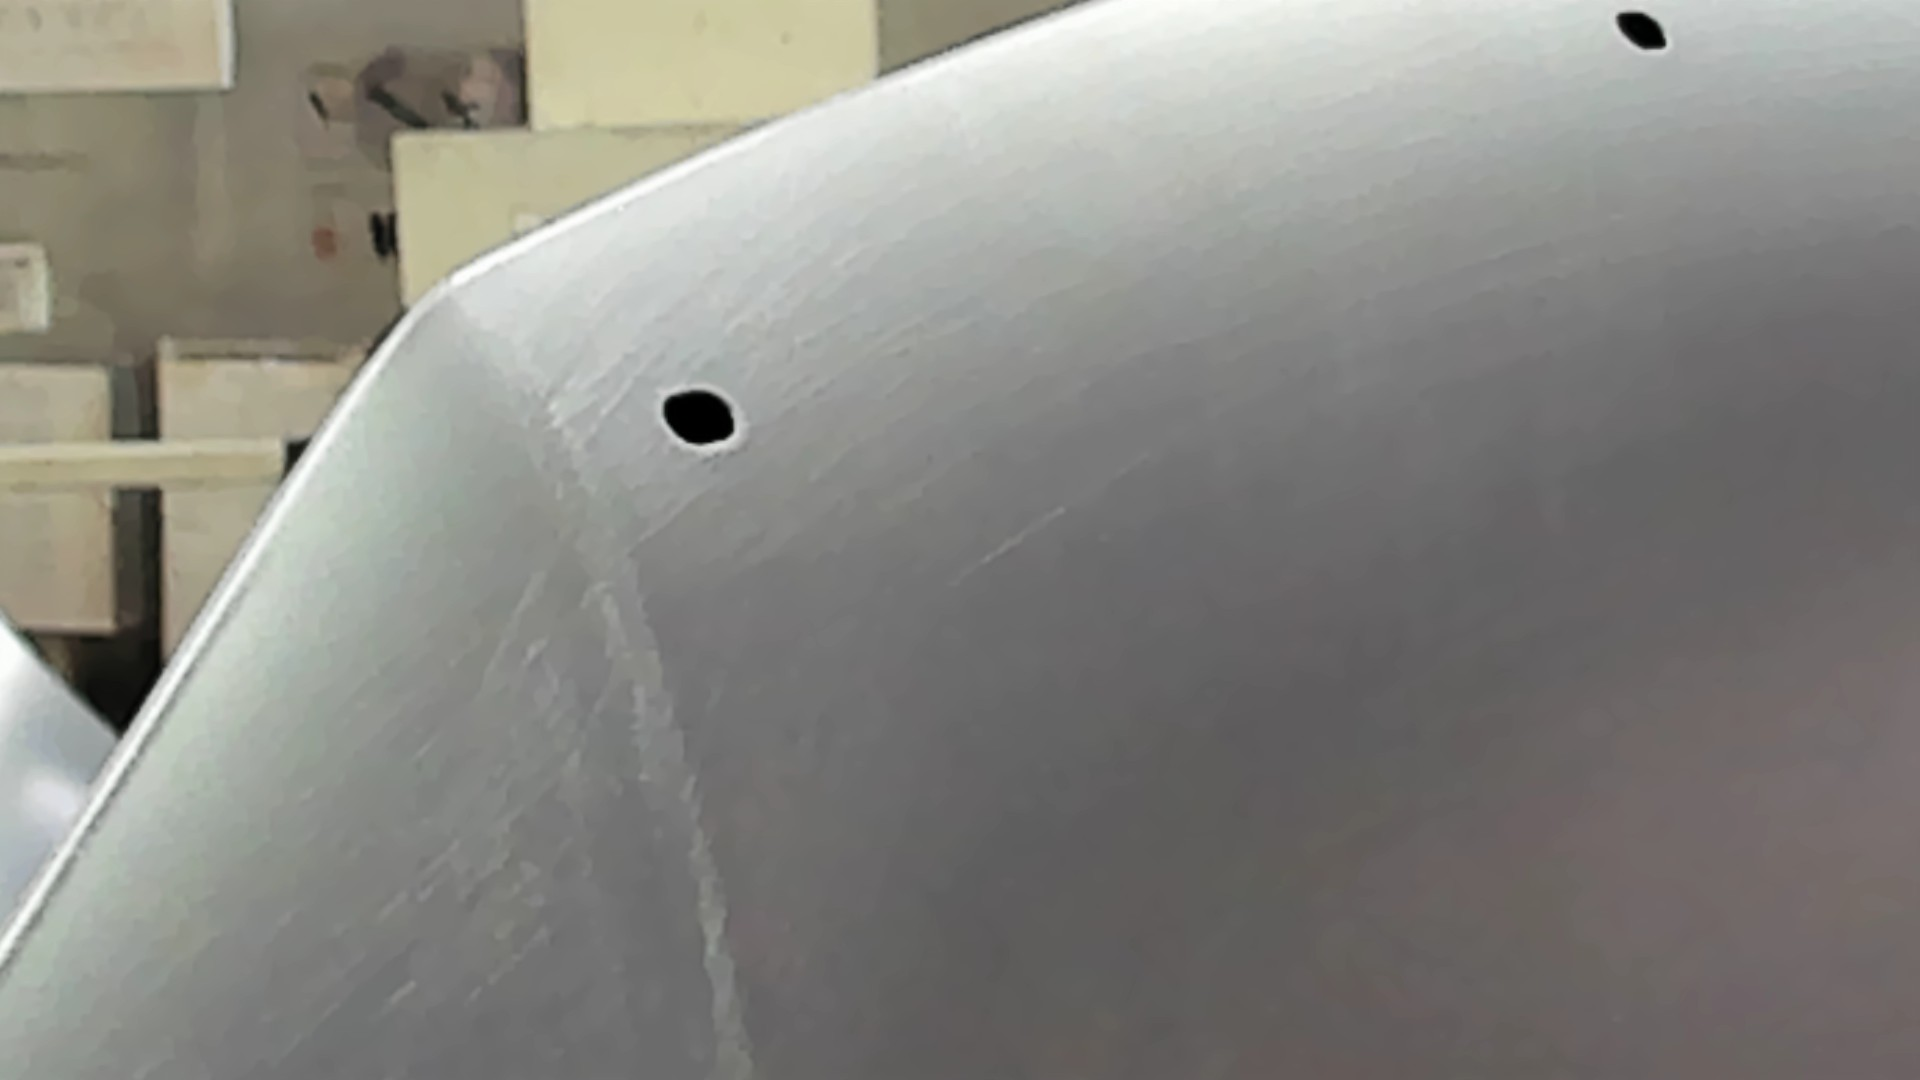amorfo: (651, 386, 752, 451), (1607, 8, 1676, 57)
capo: (818, 138, 1920, 1080)
